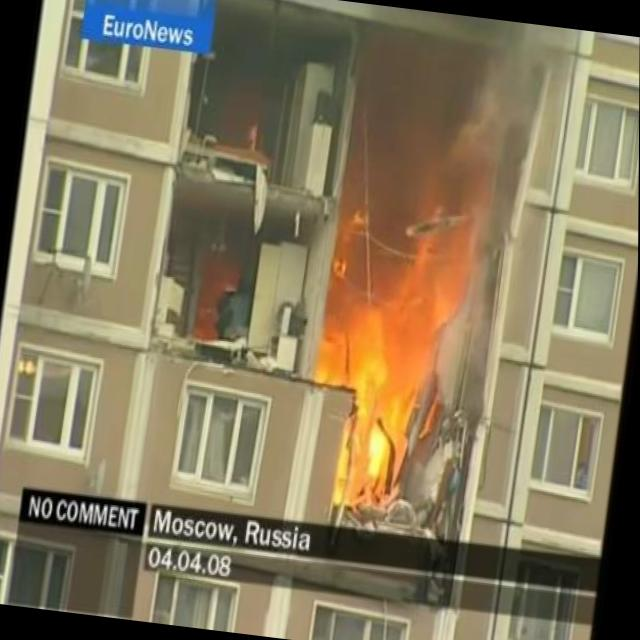fire: (330, 338, 418, 505), (314, 347, 353, 392)
